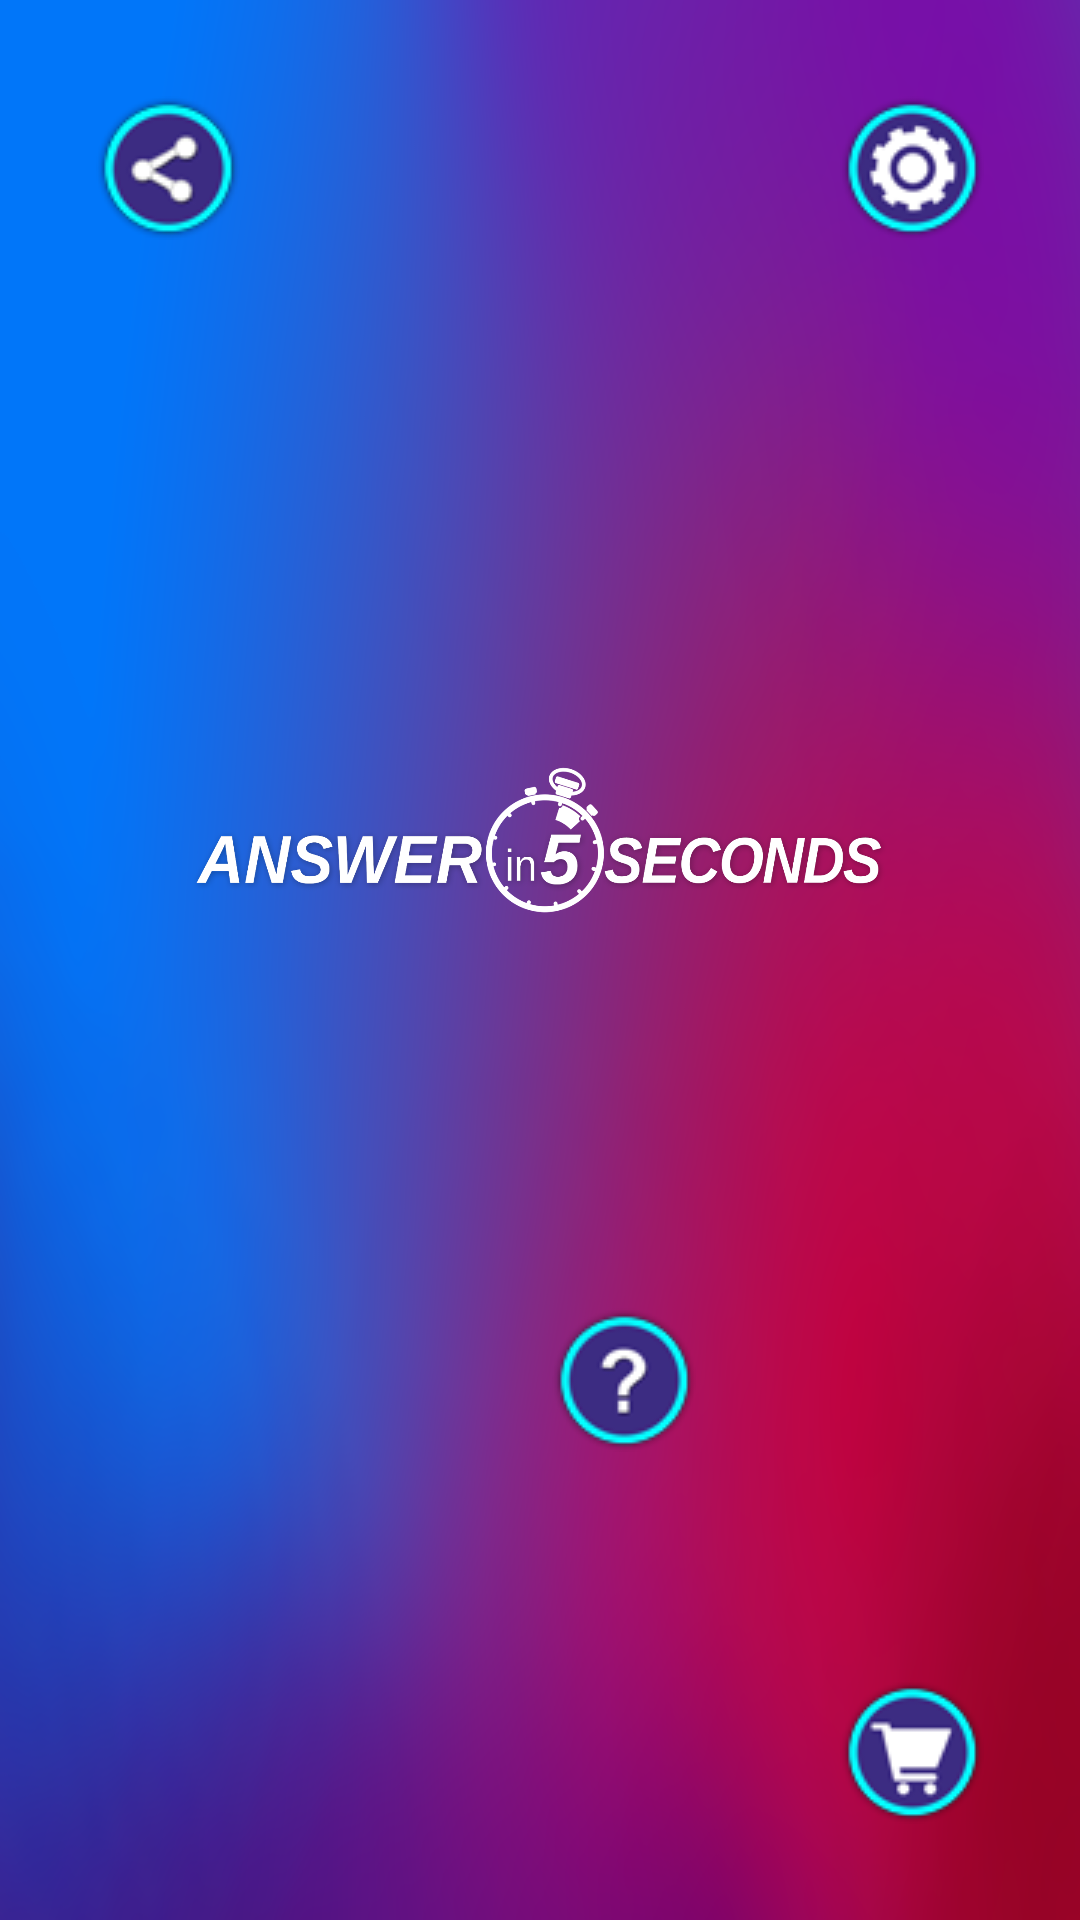

Where to tap for icons on this 1080px x 1920px app screen, as point (x, y):
anim help: point (624, 1380)
anim settings: point (912, 168)
anim share: point (169, 168)
anim shop: point (913, 1752)
